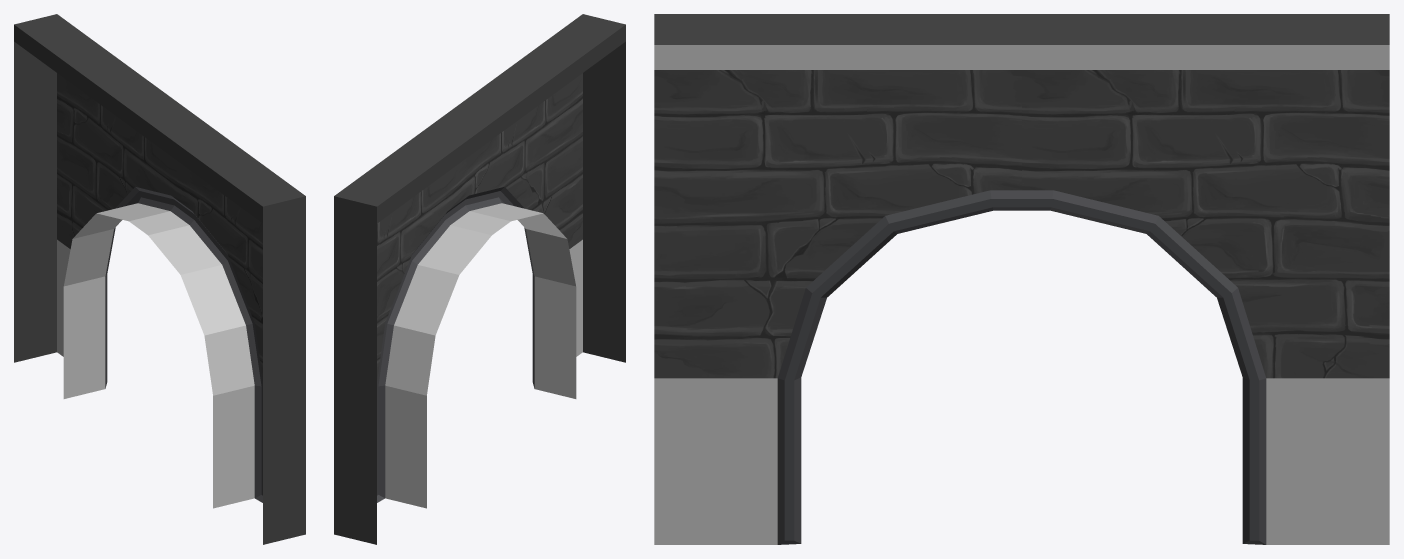
File: SM_ModularKit_Doorway.fbx
The picture shows the model from 3 angles, left to right: view 1: azimuth 30°, elevation 25°; view 2: azimuth 150°, elevation 25°; view 3: azimuth 270°, elevation 25°; orthographic projection. The views are drawn at different scales.
Parts seen in each view (by area): view 1: Doorway; view 2: Doorway; view 3: Doorway.
Part boxes in pixels (box(x1,y1,x2,y2)): Doorway: box(14, 14, 305, 544); Doorway: box(334, 14, 625, 544); Doorway: box(654, 14, 1389, 544).
Size of the model in its own units: 42.71 by 300 by 400.
